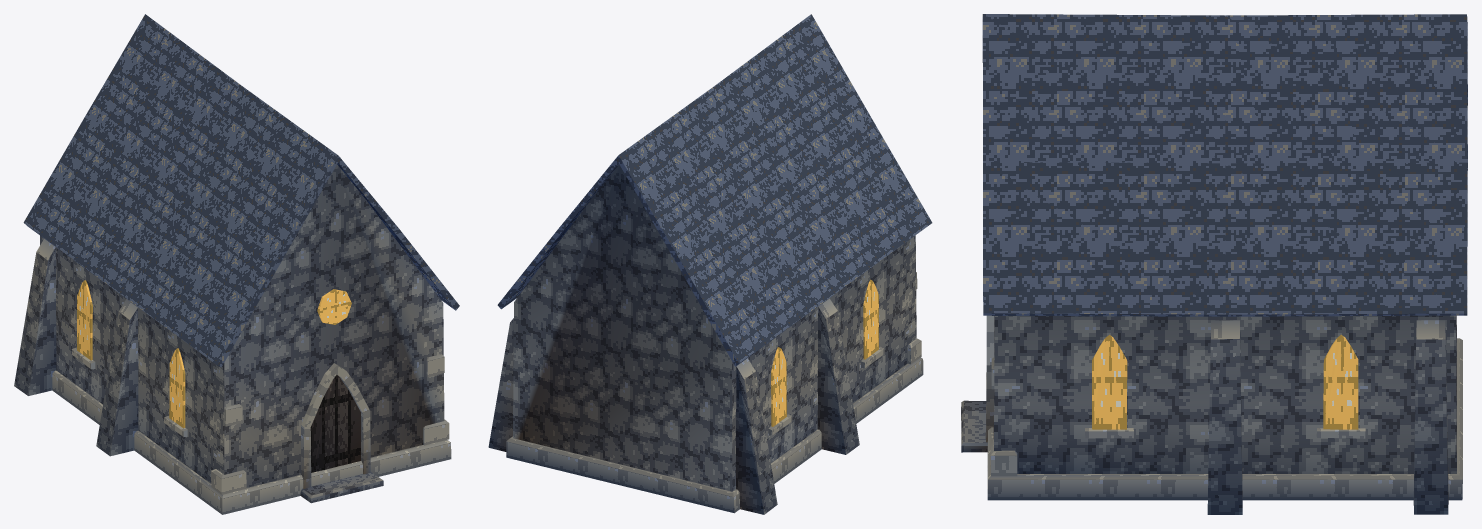
Rendered from vlg.chapel__plain.glb.
3 views of the same model, side by side, from view 1: azimuth 30°, elevation 25°; view 2: azimuth 150°, elevation 25°; view 3: azimuth 270°, elevation 25° (orthographic). The views are drawn at different scales.
Visible parts, largest first — view 1: kit_roof, kit_walls, kit_stonework, kit_fittings; view 2: kit_walls, kit_roof, kit_stonework, kit_fittings; view 3: kit_roof, kit_walls, kit_stonework, kit_fittings.
Boxes of the visible parts, box(x1,y1,x2,y2) form: kit_roof: box(23, 14, 459, 367); kit_walls: box(40, 164, 444, 487); kit_stonework: box(14, 238, 451, 514); kit_fittings: box(71, 280, 383, 503); kit_walls: box(513, 165, 916, 491); kit_roof: box(497, 14, 932, 366); kit_stonework: box(488, 272, 923, 514); kit_fittings: box(768, 279, 884, 435); kit_roof: box(982, 14, 1467, 316); kit_walls: box(993, 315, 1456, 473); kit_stonework: box(987, 320, 1462, 514); kit_fittings: box(961, 315, 1365, 452).
Bounding box in the file's own units: 6.91 × 7.94 × 8.75.
Materials: 6 (6 with a texture image).
